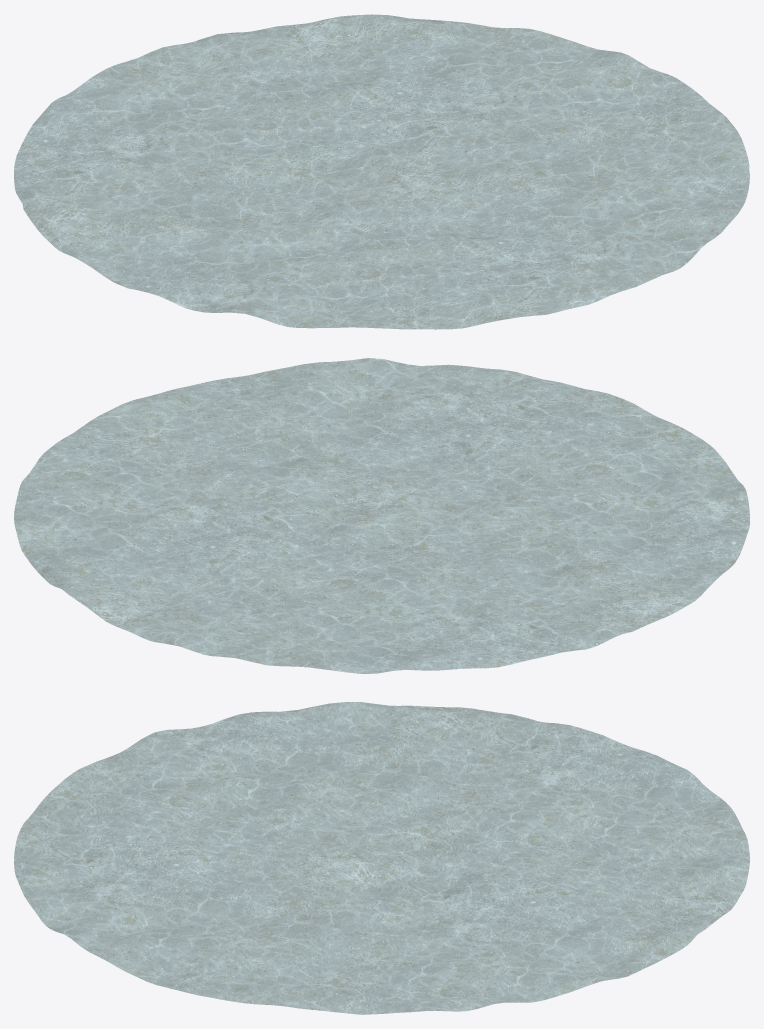
Rendered from mdl_hub_waterround.gltf.
The picture shows the model from 3 angles, top to bottom: view 1: azimuth 30°, elevation 25°; view 2: azimuth 150°, elevation 25°; view 3: azimuth 270°, elevation 25°; orthographic projection.
Visible parts, largest first — view 1: f_1Shape.003; view 2: f_1Shape.003; view 3: f_1Shape.003.
Boxes of the visible parts, x1,y1,x2,y2 form: f_1Shape.003: [14, 14, 749, 329]; f_1Shape.003: [14, 358, 749, 673]; f_1Shape.003: [14, 702, 749, 1014].
Size of the model in its own units: 10.53 by 0.1601 by 10.53.
Materials: 1 (1 with a texture image).
